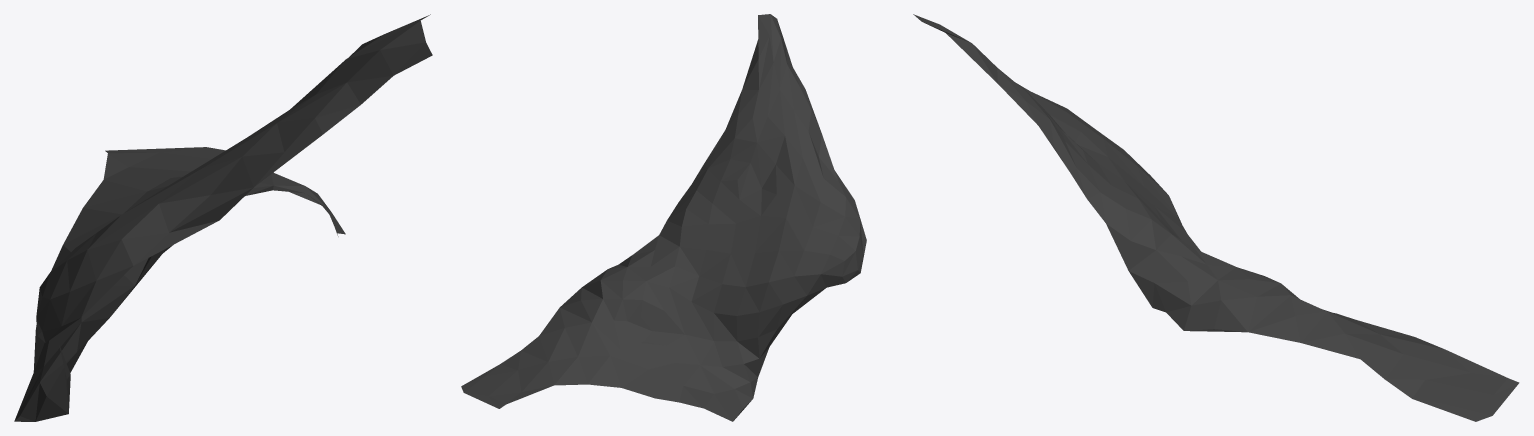
The model's file is ligament_caudolateral_meniscotibial_e.glb.
3 renders of one model, left to right at view 1: azimuth 30°, elevation 25°; view 2: azimuth 150°, elevation 25°; view 3: azimuth 270°, elevation 25°, orthographic. The views are drawn at different scales.
Visible parts, largest first — view 1: ligament_caudolateral_meniscotibial_e; view 2: ligament_caudolateral_meniscotibial_e; view 3: ligament_caudolateral_meniscotibial_e.
Boxes of the visible parts, box(x1,y1,x2,y2) form: ligament_caudolateral_meniscotibial_e: box(14, 14, 432, 421); ligament_caudolateral_meniscotibial_e: box(461, 14, 866, 421); ligament_caudolateral_meniscotibial_e: box(913, 14, 1519, 421).
Size of the model in its own units: 0.00127 by 0.0014 by 0.00199.
Materials: 1 (1 with a texture image).
